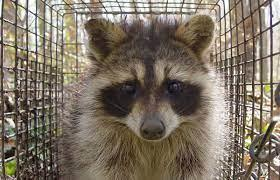raccoon: (47, 6, 244, 180)
